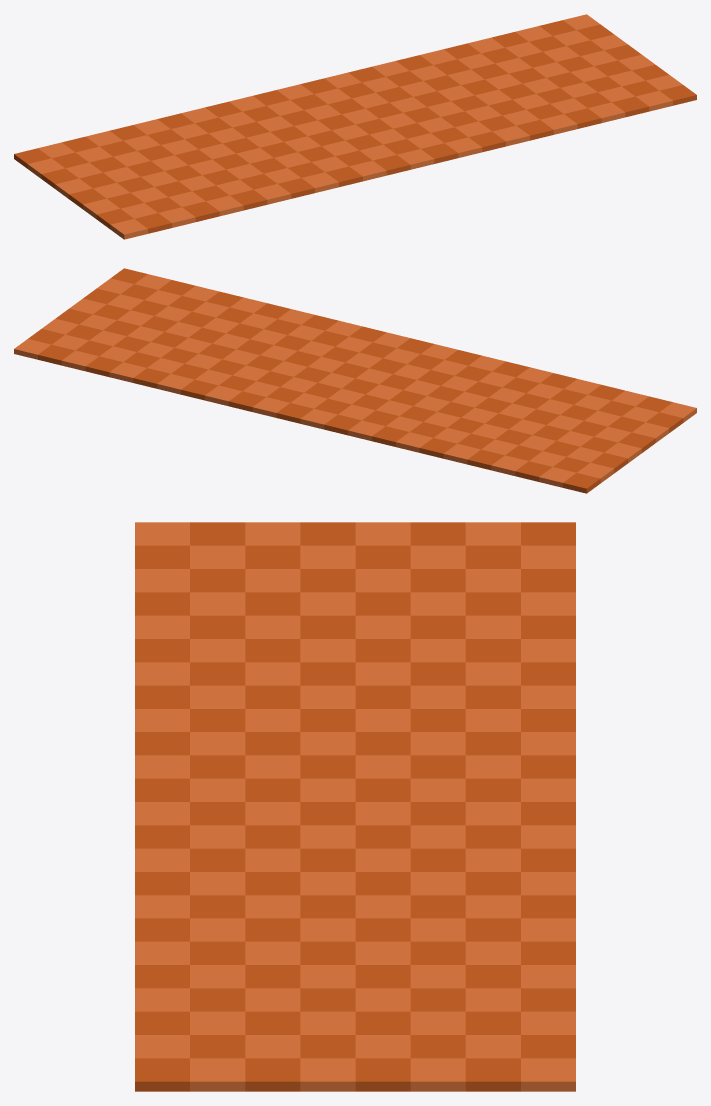
File: map120x40.obj
3 renders of one model, top to bottom at view 1: azimuth 30°, elevation 25°; view 2: azimuth 150°, elevation 25°; view 3: azimuth 270°, elevation 25°, orthographic. The views are drawn at different scales.
Bounding box in the file's own units: 12 × 0.1 × 4.
Materials: 1 (1 with a texture image).
